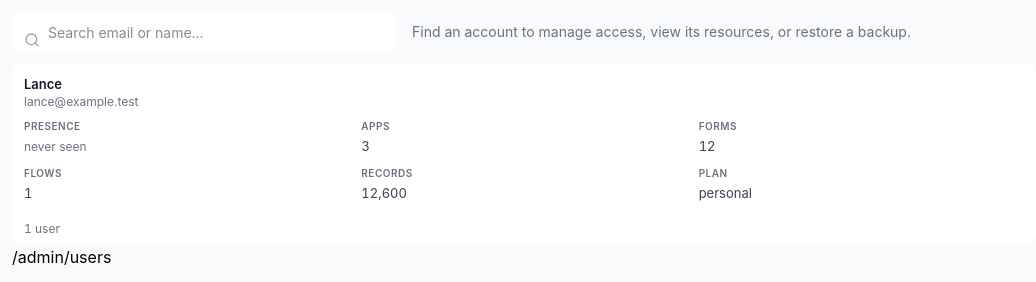
Test case: opens the user from anywhere on the row, and once from the name
Click the cell "Forms 12" at (718, 126), box [699,116,1024,157]
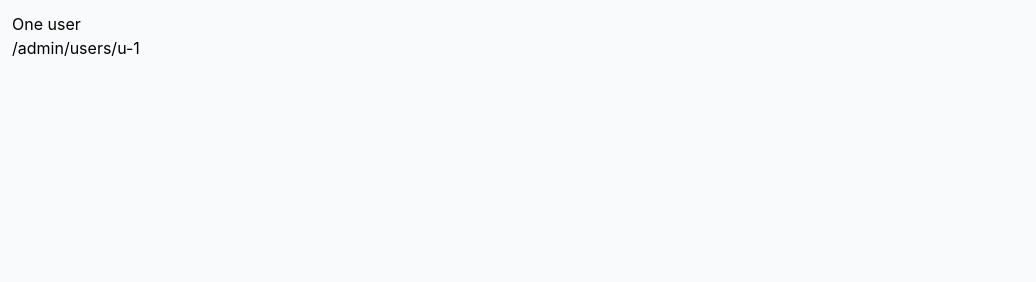
Check: the text with test id "where" reads "/admin/users/u-1", box [12,38,140,58]
